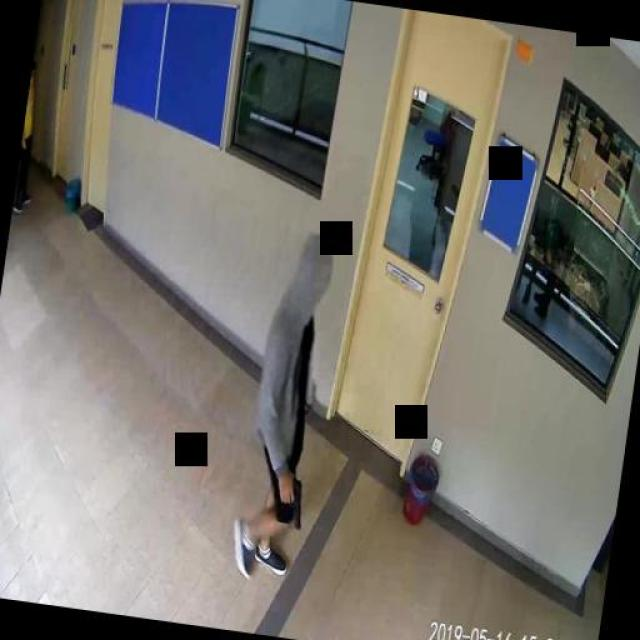gun: (271, 475, 304, 529)
